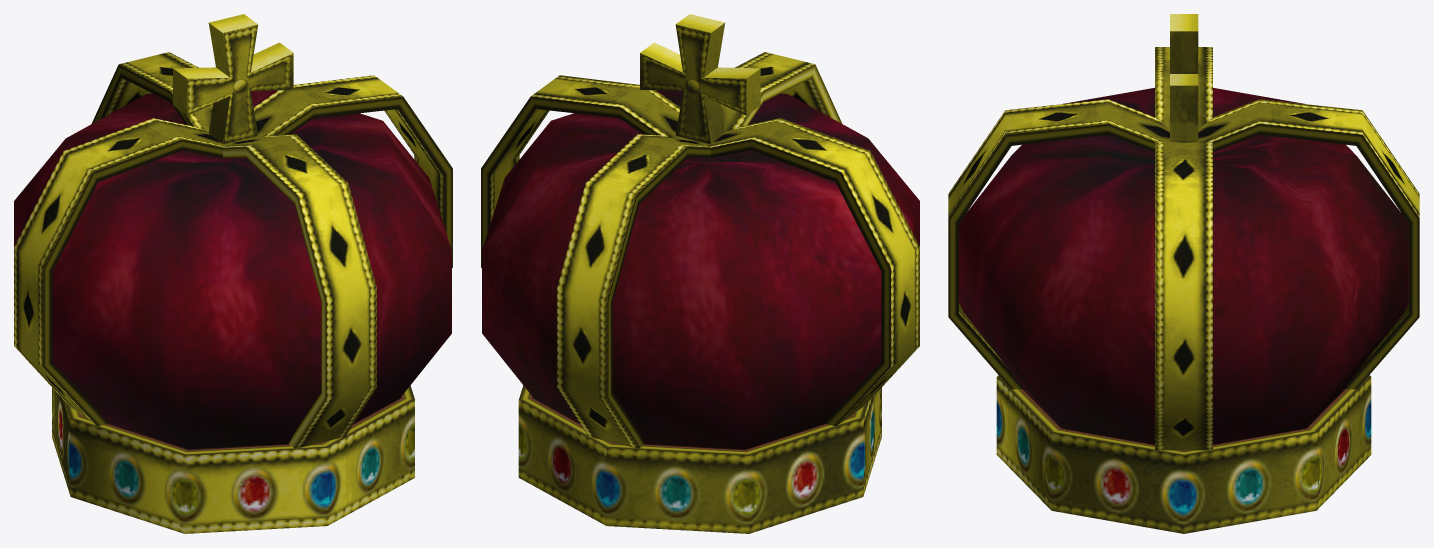
The model's file is crown.fbx.
3 views of the same model, side by side, from view 1: azimuth 30°, elevation 25°; view 2: azimuth 150°, elevation 25°; view 3: azimuth 270°, elevation 25° (orthographic).
Visible parts, largest first — view 1: crown; view 2: crown; view 3: crown.
Boxes of the visible parts, x1=… form: crown: x1=14, y1=14, x2=452, y2=533; crown: x1=481, y1=14, x2=919, y2=533; crown: x1=948, y1=14, x2=1419, y2=533.
Bounding box in the file's own units: 37.43 × 37.85 × 37.43.
